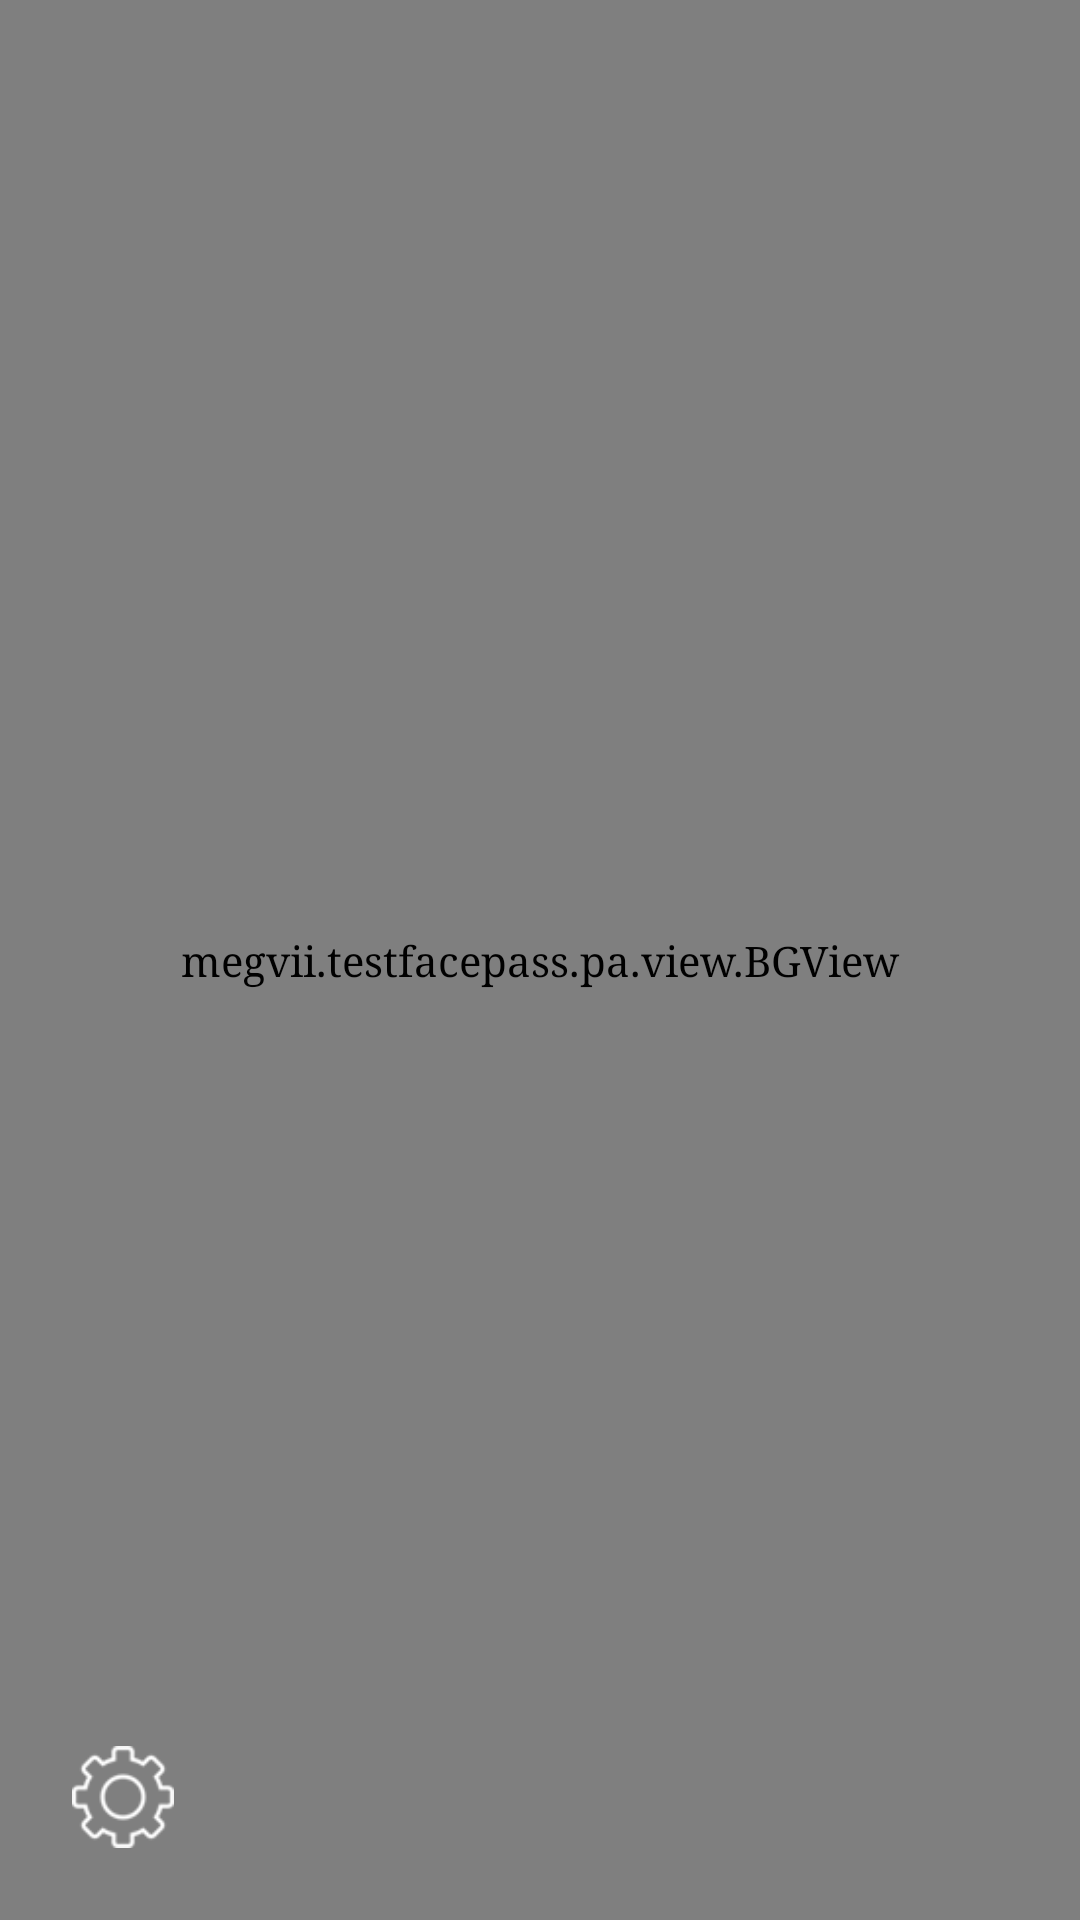

Named icons in this screenshot (1080px×1920px) and their centers, point (x, y):
shezhibg: point (123, 1797)
